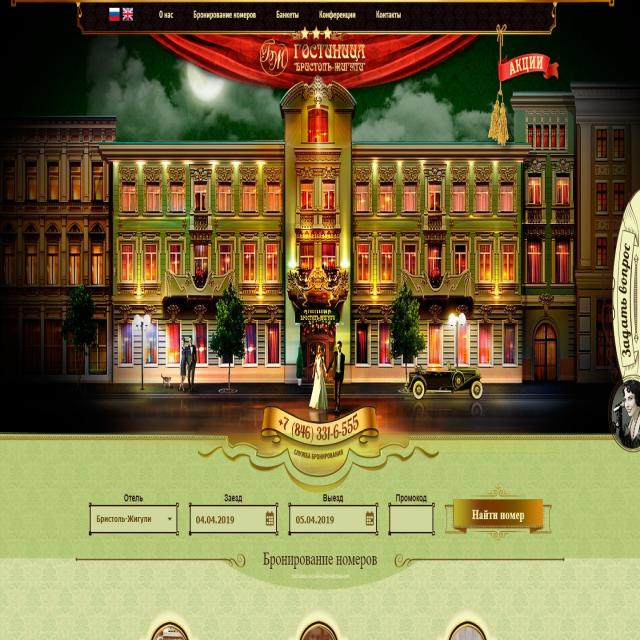button: (89, 504, 177, 536), (452, 498, 543, 528), (288, 502, 378, 532), (190, 506, 276, 534), (187, 0, 257, 31), (311, 2, 361, 32), (370, 3, 411, 31), (268, 0, 300, 32), (152, 0, 177, 30), (106, 3, 121, 24), (121, 3, 136, 23)
field: (392, 504, 434, 532)
heading: (291, 42, 368, 75)
image: (0, 0, 640, 640)
label: (393, 489, 430, 503), (222, 491, 248, 507), (122, 490, 144, 506), (320, 492, 348, 504)
text: (268, 406, 377, 446), (262, 548, 378, 571)
